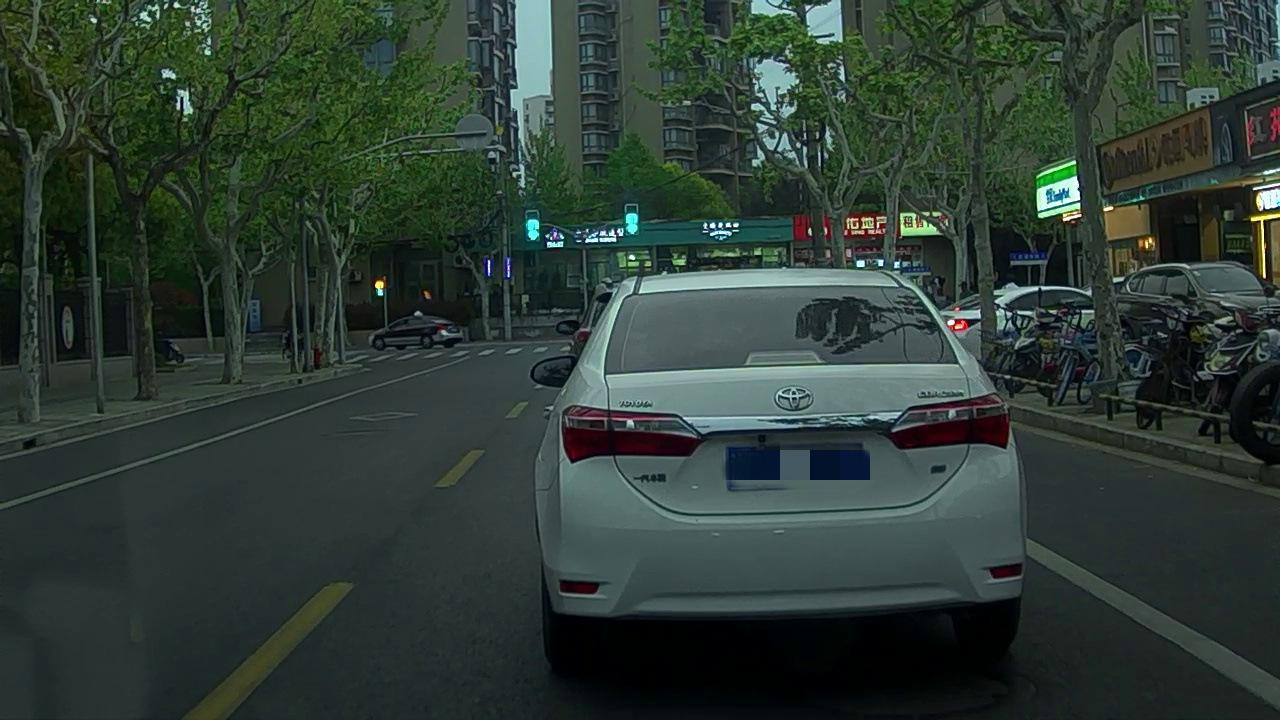traffic_light: (525, 210, 539, 243), (627, 204, 637, 235)
